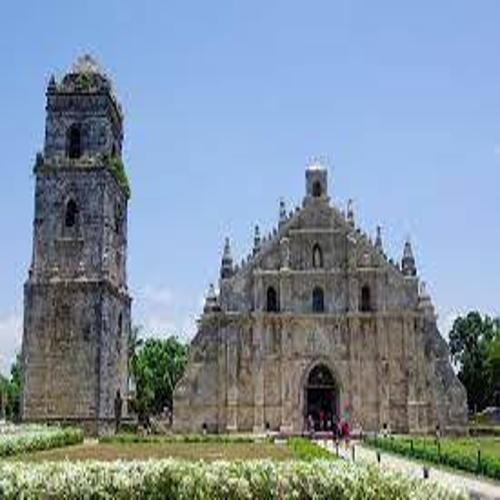Paoay Church: (20, 40, 480, 449)
